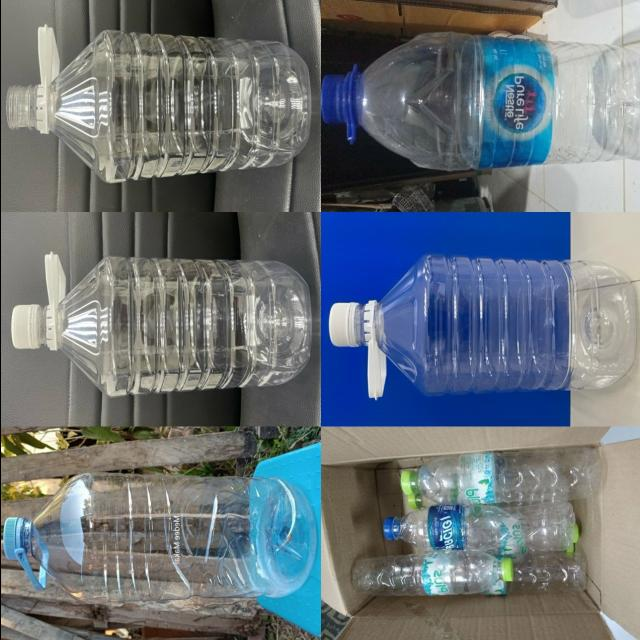plastik: (6, 25, 308, 182), (328, 255, 635, 398), (322, 33, 640, 171), (11, 254, 310, 396), (3, 473, 316, 603), (400, 447, 601, 504), (382, 501, 576, 551), (350, 552, 513, 596)
